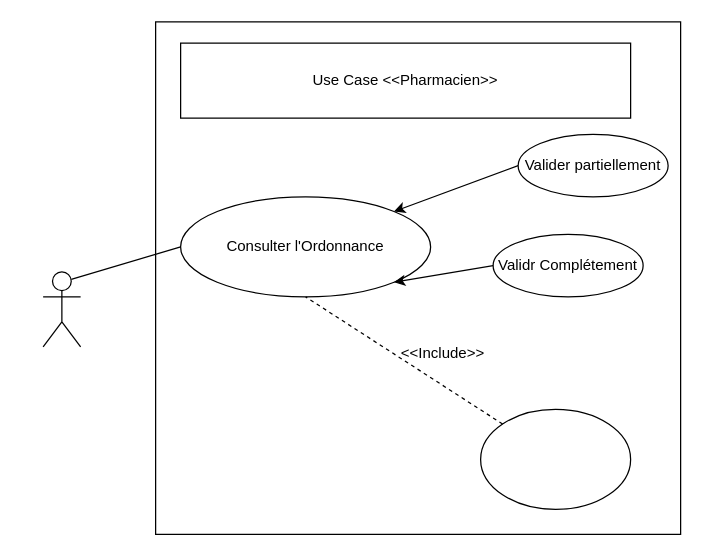
Some shapes in this 703 by 556 pixel diagram are drawn without their labels. The shapes that lost their labels are listed below. From the top down, each one's centre as x and y in pixels, then its label:
the point at 61,309: Pharmacien
the point at 555,458: Authentification
